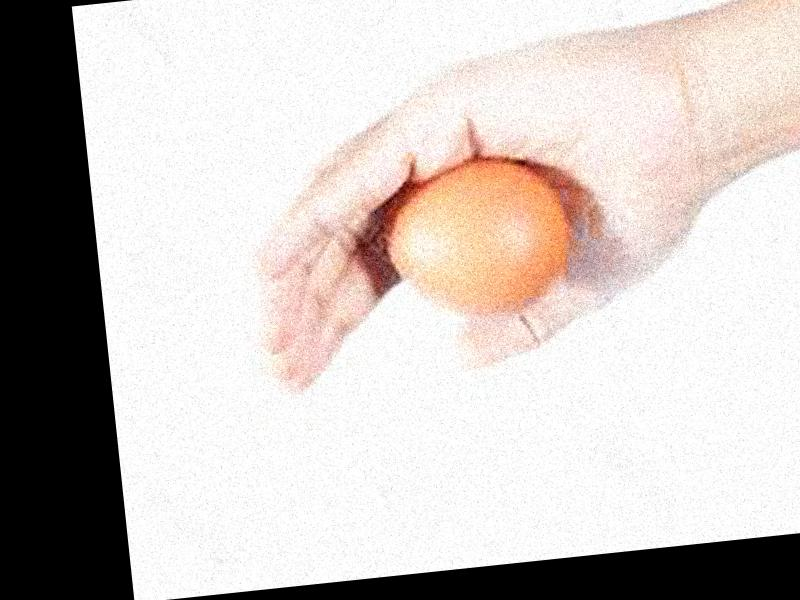Eggs: (382, 155, 574, 324)
